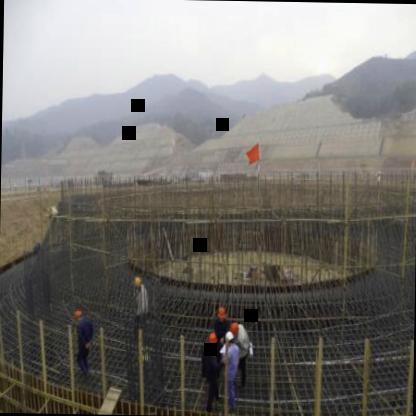helmet: (70, 306, 90, 326), (215, 304, 229, 326), (220, 329, 235, 349), (228, 320, 242, 338), (206, 332, 218, 352), (130, 273, 142, 291)
